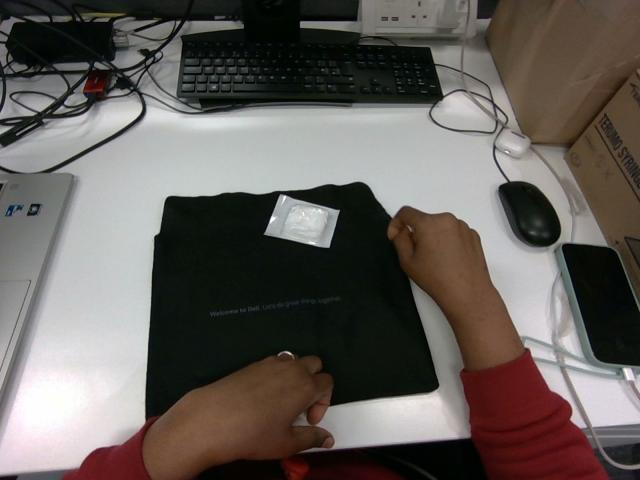gauze: (264, 194, 338, 247)
